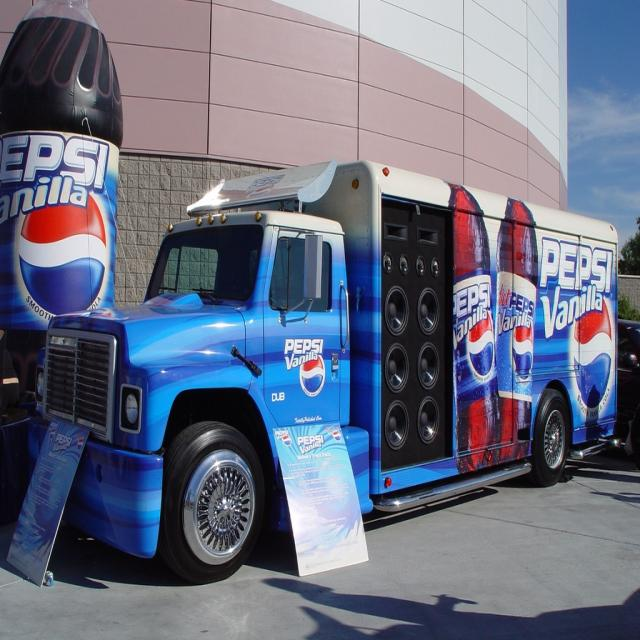pepsi: (17, 204, 117, 318), (573, 308, 618, 407), (465, 319, 503, 376), (510, 329, 543, 380), (299, 359, 329, 400)
